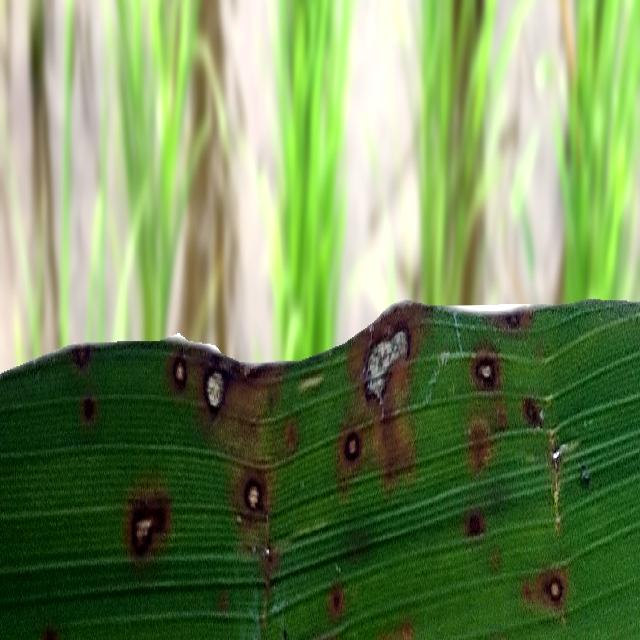LEAF BLAST: (363, 315, 411, 406), (473, 350, 500, 391), (205, 367, 224, 411), (244, 475, 265, 514), (133, 510, 152, 552), (342, 429, 361, 466), (500, 309, 527, 333), (73, 343, 90, 368), (173, 357, 186, 386), (548, 578, 562, 603)
